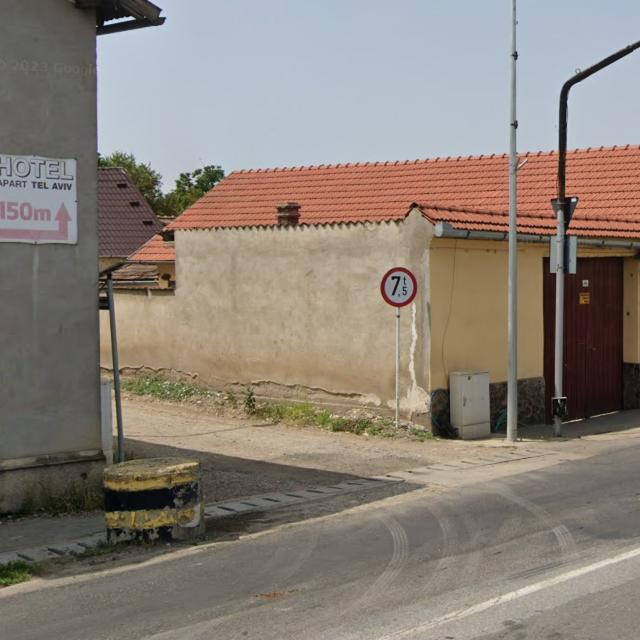forb_weight_over_7.5t: (380, 266, 418, 306)
